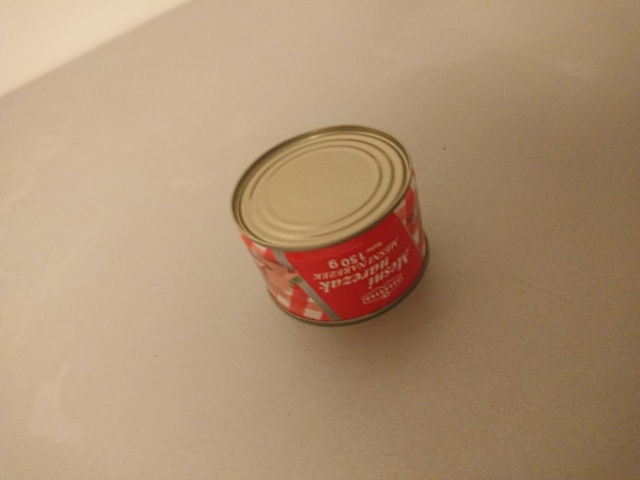Podravka Luncheon Meat 150g: (229, 122, 433, 329)
